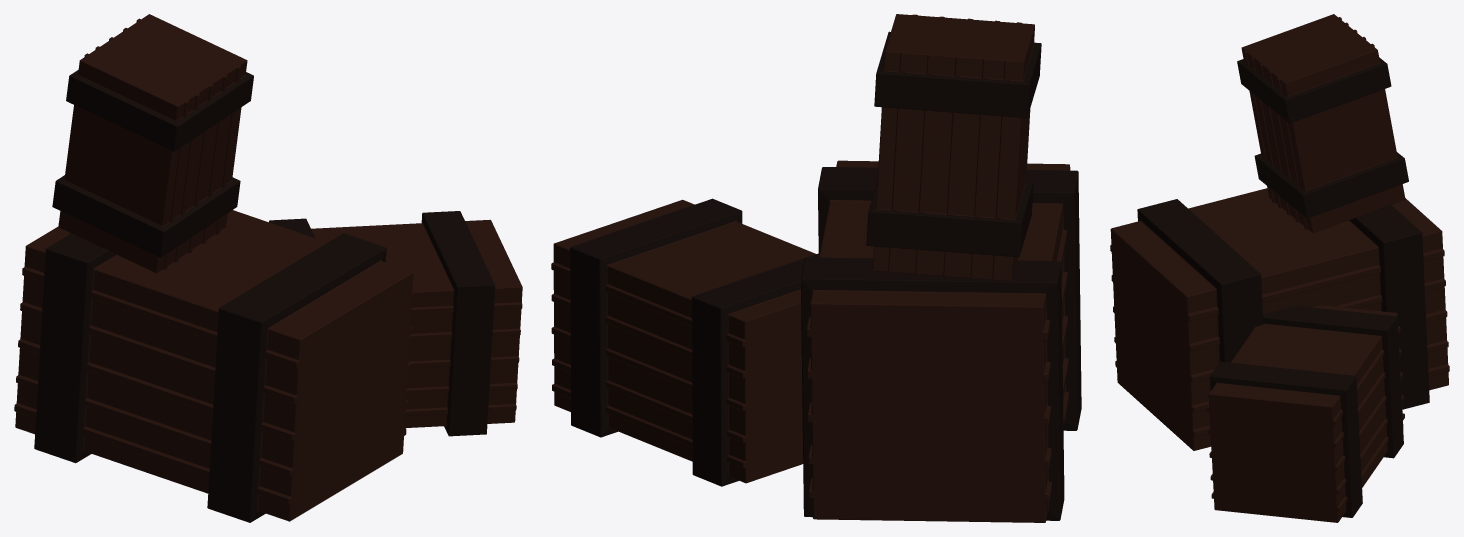
Rendered from caisses_01.FBX.
The picture shows the model from 3 angles, left to right: view 1: azimuth 30°, elevation 25°; view 2: azimuth 150°, elevation 25°; view 3: azimuth 270°, elevation 25°; orthographic projection. The views are drawn at different scales.
Parts seen in each view (by area): view 1: Box128; view 2: Box128; view 3: Box128.
Part boxes in pixels (bbox=[...]): Box128: bbox=[14, 14, 522, 522]; Box128: bbox=[551, 14, 1081, 522]; Box128: bbox=[1110, 14, 1449, 522].
Size of the model in its own units: 204 by 154 by 176.
